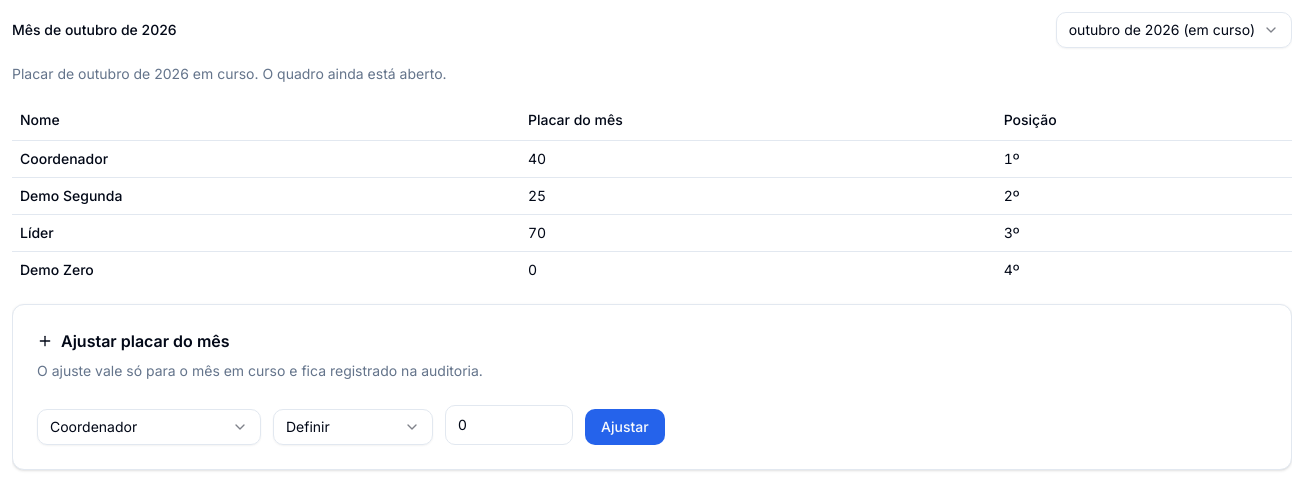
Test: MonthsTable — aba Meses do painel (S05) › abrir um mês fechado lê as linhas congeladas do servidor, com a posição gravada e o aviso do servidor
Check: the text "Mês de outubro de 2026" is shown, box [12, 20, 177, 40]
Click the dropdown named "Escolher mês" at (1174, 30), box [1056, 12, 1292, 48]
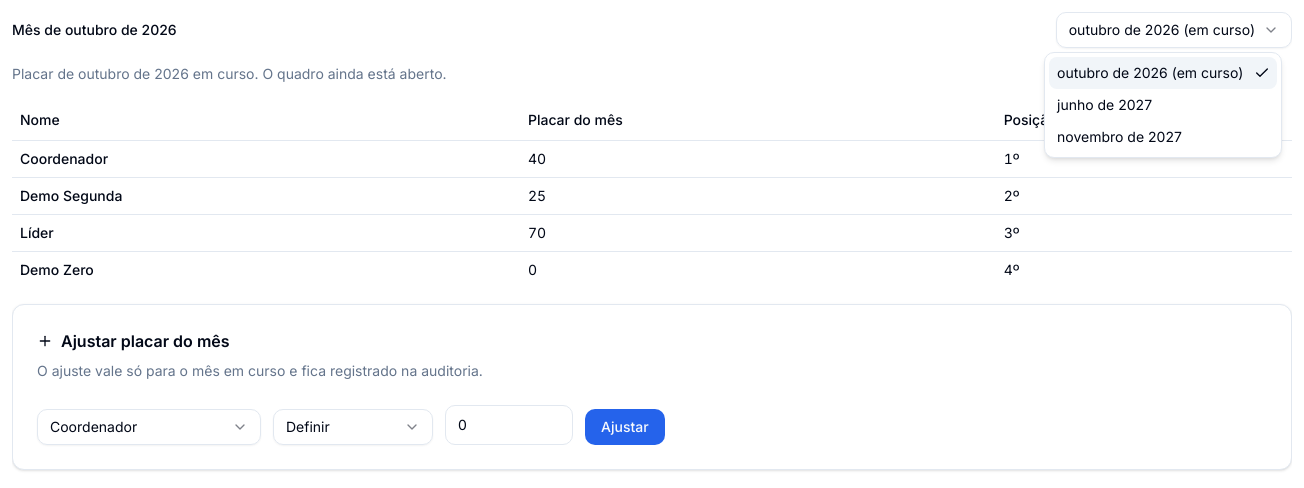
Click the option "junho de 2027" at (1105, 104), box [1057, 96, 1152, 113]
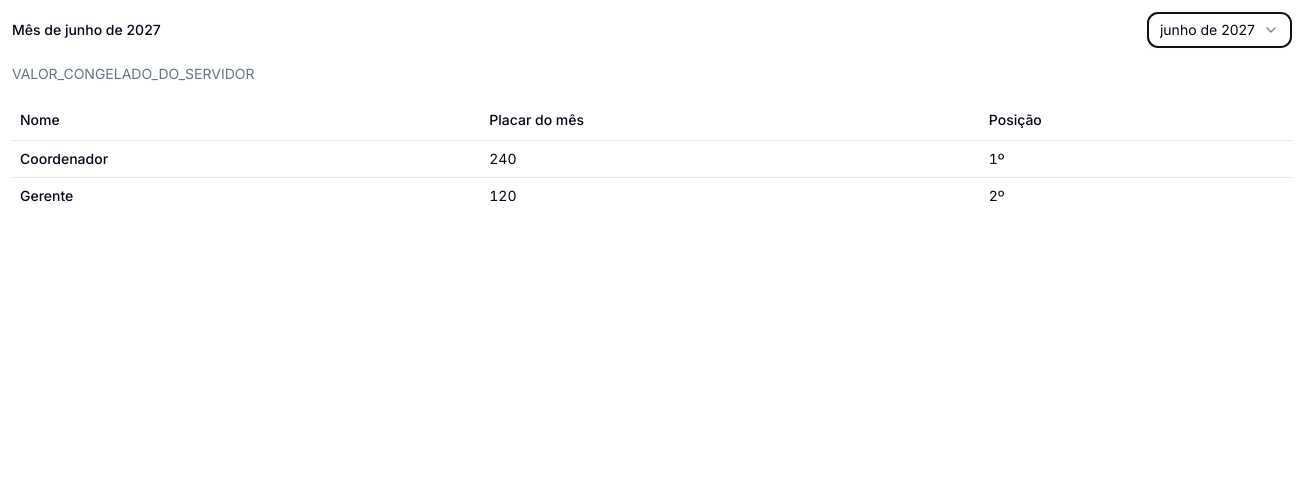
Check: the list is gone
Check: the text "Mês de junho de 2027" is shown, box [12, 20, 161, 40]
Check: the text "VALOR_CONGELADO_DO_SERVIDOR" is shown, box [12, 65, 254, 82]
